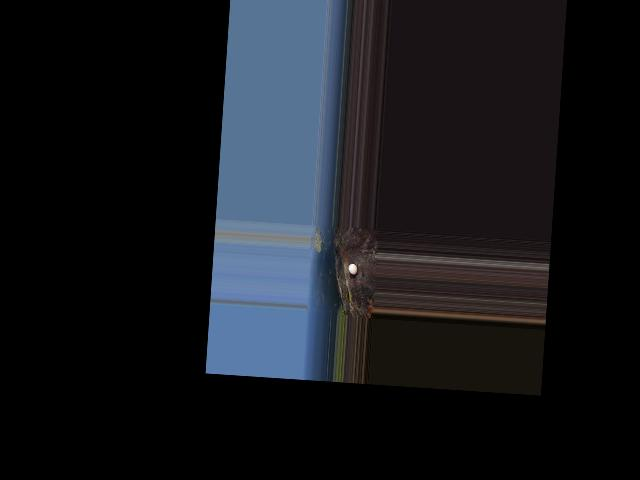egg: (348, 262, 357, 274)
